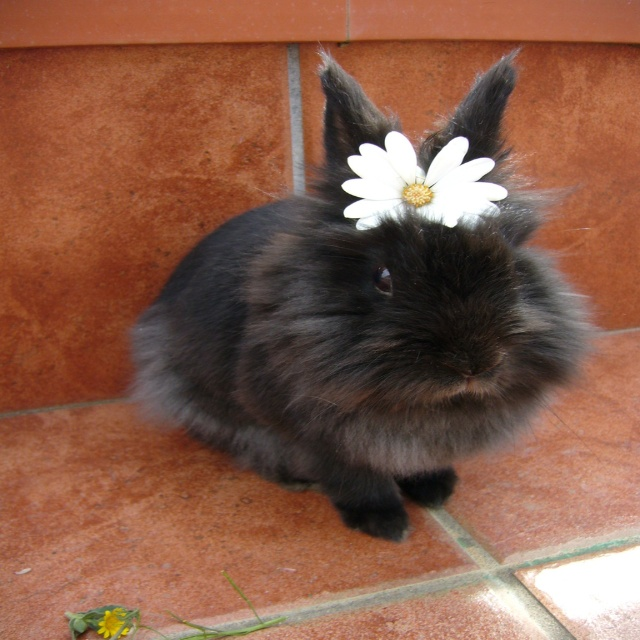Rabbit: (126, 39, 607, 543)
